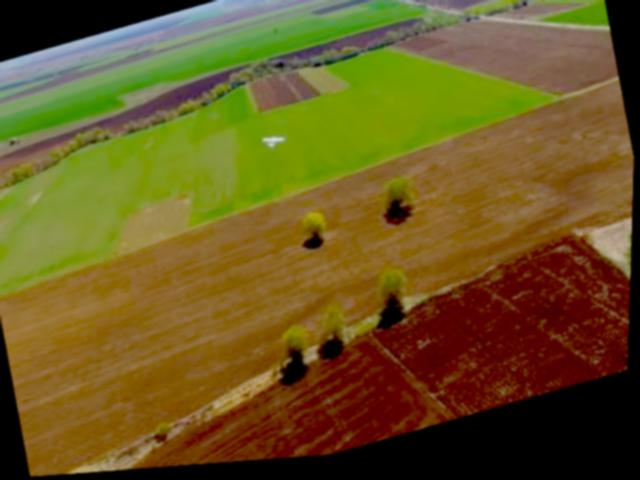uav: (255, 125, 292, 158)
